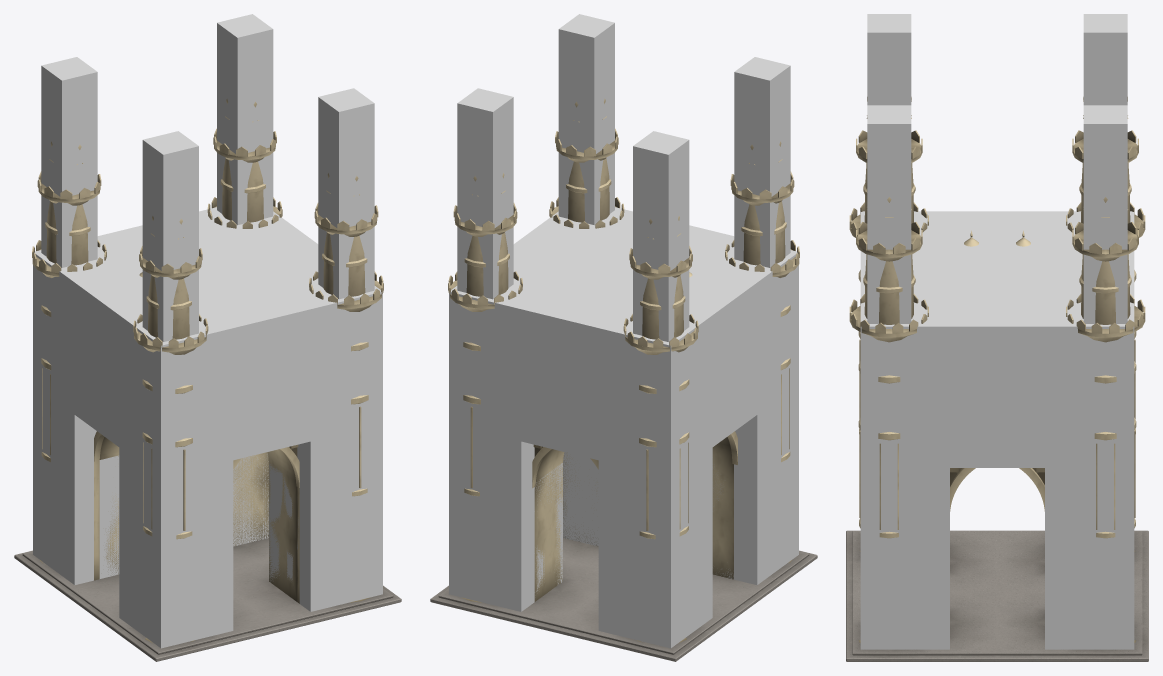
Rendered from charminar_proto.glb.
3 renders of one model, left to right at view 1: azimuth 30°, elevation 25°; view 2: azimuth 150°, elevation 25°; view 3: azimuth 270°, elevation 25°, orthographic. The views are drawn at different scales.
Visible parts, largest first — view 1: COL_charminar, charminar_body, charminar_detail; view 2: COL_charminar, charminar_body, charminar_detail; view 3: COL_charminar, charminar_detail, charminar_body.
Boxes of the visible parts, x1=… form: COL_charminar: x1=33, y1=14, x2=382, y2=648; charminar_body: x1=32, y1=98, x2=383, y2=642; charminar_detail: x1=14, y1=538, x2=401, y2=661; COL_charminar: x1=449, y1=14, x2=798, y2=648; charminar_body: x1=448, y1=98, x2=799, y2=643; charminar_detail: x1=430, y1=538, x2=817, y2=661; COL_charminar: x1=860, y1=14, x2=1134, y2=649; charminar_detail: x1=846, y1=530, x2=1148, y2=661; charminar_body: x1=849, y1=97, x2=1145, y2=642.
Size of the model in its own units: 70 by 135 by 70.
Materials: 5 (5 with a texture image).
